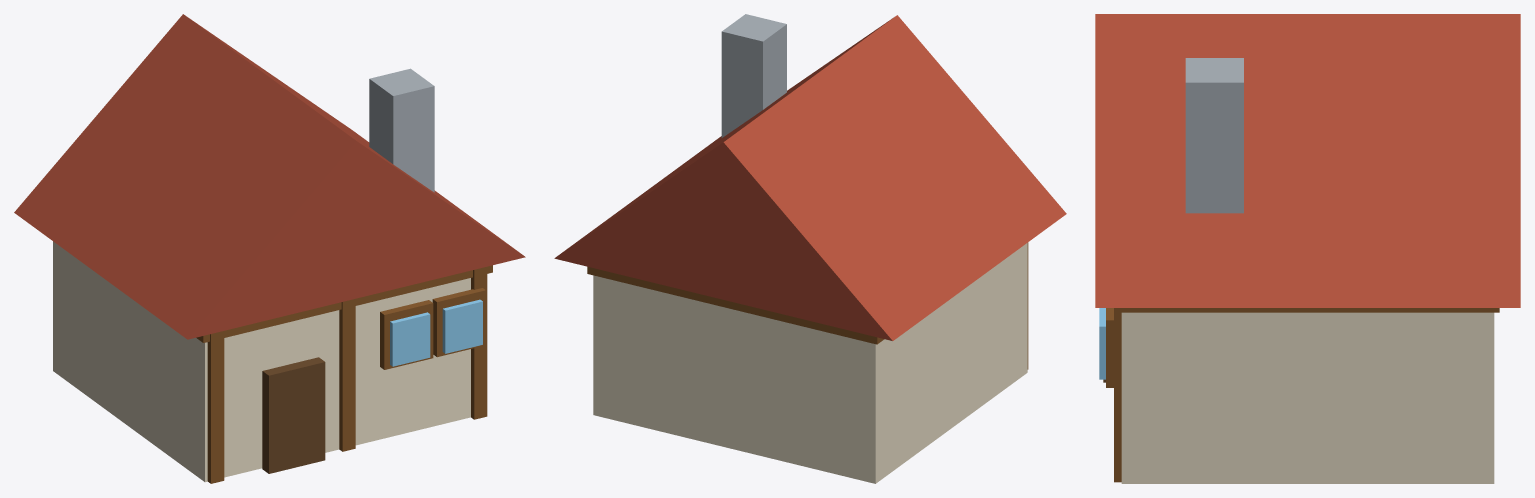
Rendered from house_2.glb.
The picture shows the model from 3 angles, left to right: view 1: azimuth 30°, elevation 25°; view 2: azimuth 150°, elevation 25°; view 3: azimuth 270°, elevation 25°; orthographic projection. The views are drawn at different scales.
Visible parts, largest first — view 1: tijolo, reboco, madeira_escura.002, porta.002, pedra, vidro.001; view 2: tijolo, reboco, pedra, madeira_escura.002; view 3: tijolo, reboco, pedra, madeira_escura.002, vidro.001.
Boxes of the visible parts, x1=… form: tijolo: x1=14, y1=14, x2=525, y2=339; reboco: x1=53, y1=241, x2=470, y2=482; madeira_escura.002: x1=196, y1=265, x2=492, y2=483; porta.002: x1=262, y1=357, x2=325, y2=473; pedra: x1=369, y1=68, x2=434, y2=192; vidro.001: x1=390, y1=299, x2=482, y2=366; tijolo: x1=554, y1=15, x2=1066, y2=340; reboco: x1=593, y1=243, x2=1027, y2=483; pedra: x1=721, y1=14, x2=786, y2=137; madeira_escura.002: x1=587, y1=242, x2=1028, y2=369; tijolo: x1=1095, y1=14, x2=1520, y2=307; reboco: x1=1121, y1=312, x2=1494, y2=483; pedra: x1=1185, y1=58, x2=1243, y2=213; madeira_escura.002: x1=1106, y1=308, x2=1499, y2=482; vidro.001: x1=1099, y1=308, x2=1105, y2=379.
Size of the model in its own units: 1.8 by 1.6 by 1.6.
